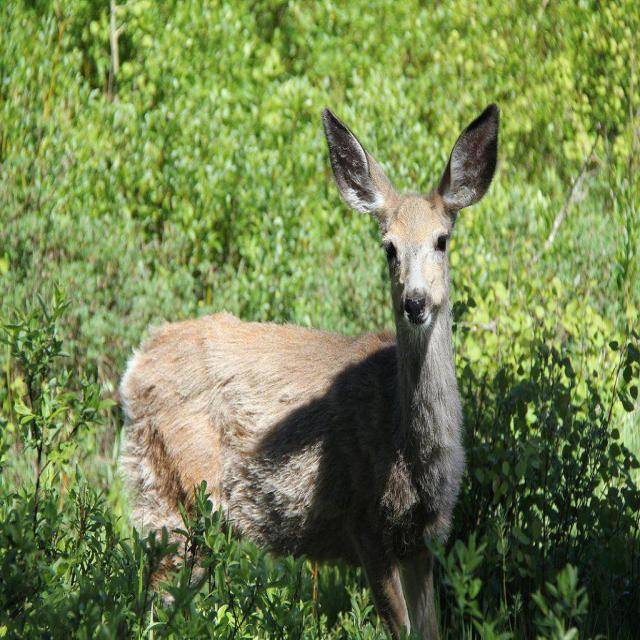Deer: (118, 107, 496, 639)
